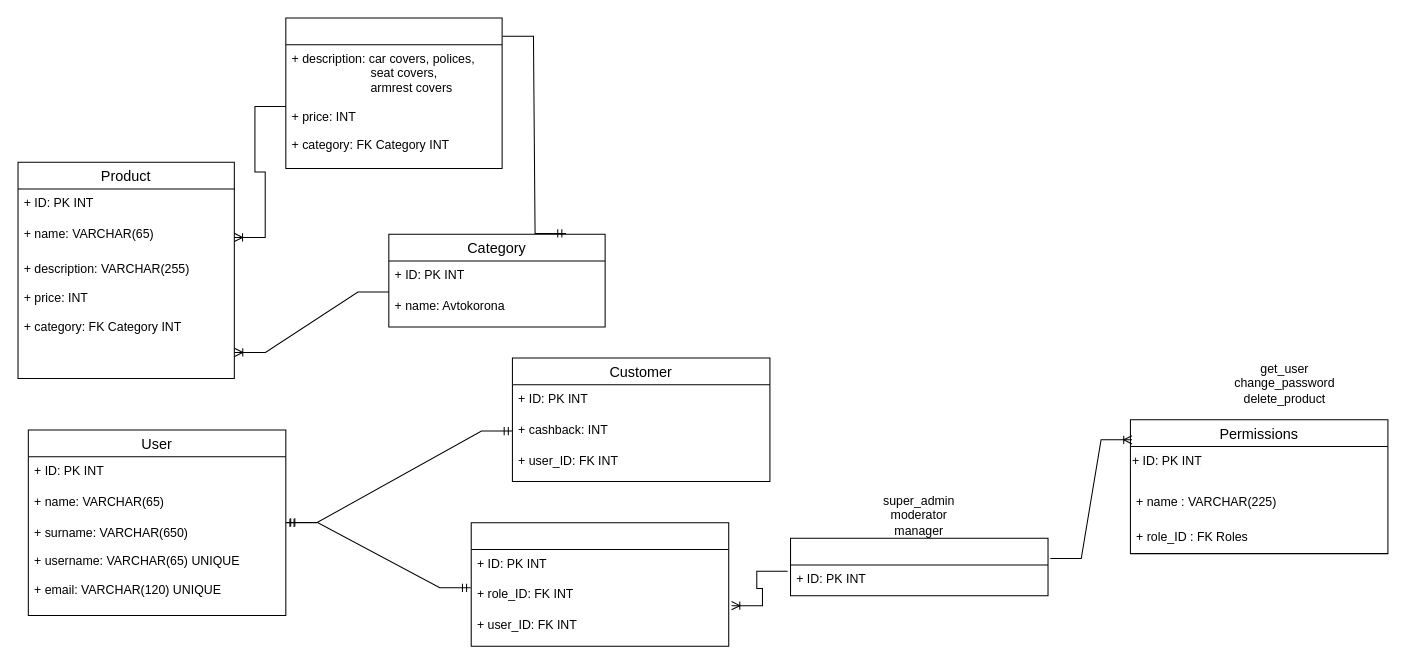
Some shapes in this 1406 by 667 pixel diagram are drawn without their labels. The box of each missing label's shape, as (x1, y1, x2, y2) in pixels:
Admin: (470, 522, 729, 646)
Car_accessories: (285, 17, 502, 168)
Role: (789, 537, 1048, 596)
